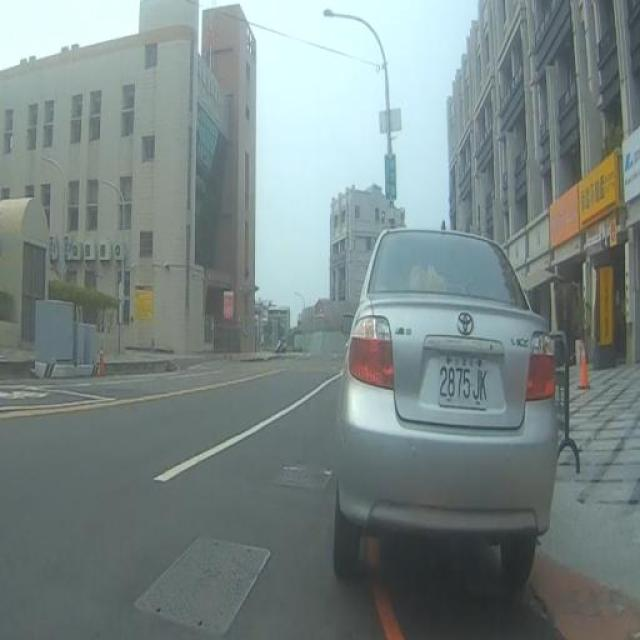illegalparking: (320, 178, 636, 610)
